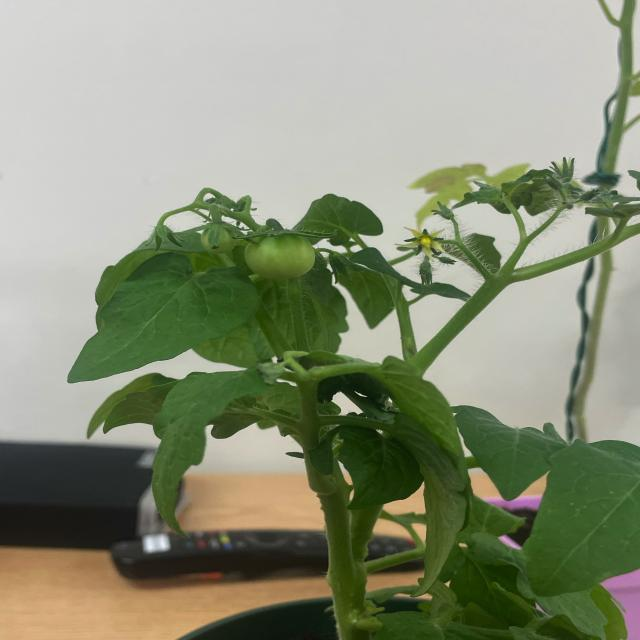level 1: (242, 227, 320, 286)
